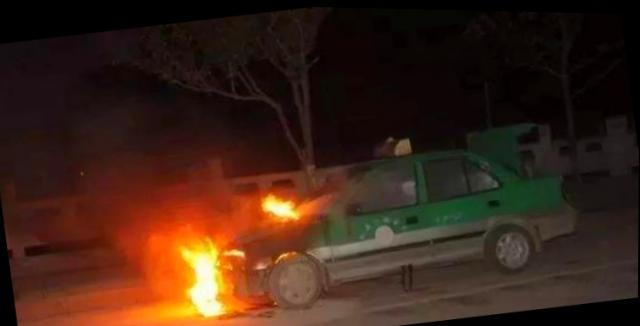fire: (172, 225, 253, 319), (256, 183, 304, 226)
